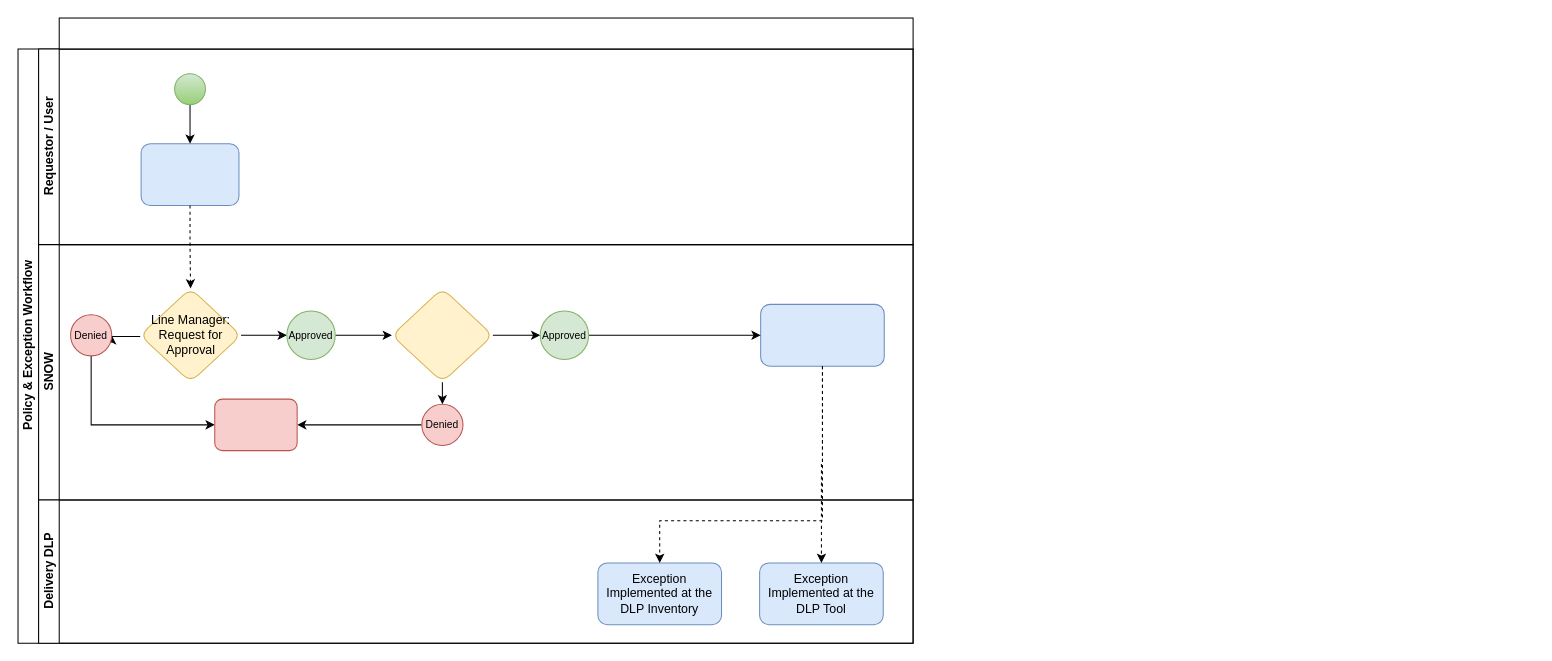
Image size: 1552x661. Some labels were removed from this diagram. Each missing label, with the centre of its shape:
"Close Request" belongs at [255,424].
"Exception Form filled in SNOW" belongs at [189,174].
"New Policy & Exception" belongs at [485,33].
"RISO: Request for Approval" belongs at [442,334].
"Task generated for the DLP Team" belongs at [822,334].
